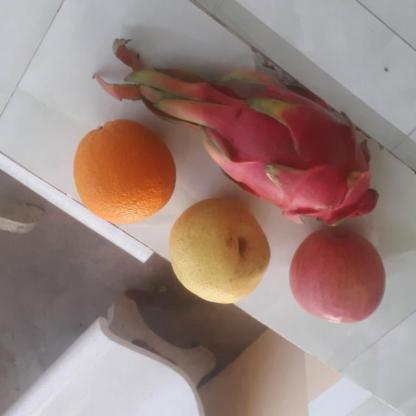apple: (290, 230, 389, 324)
orange: (69, 116, 179, 224)
pear: (162, 196, 276, 308)
pitaya: (216, 92, 380, 224)
